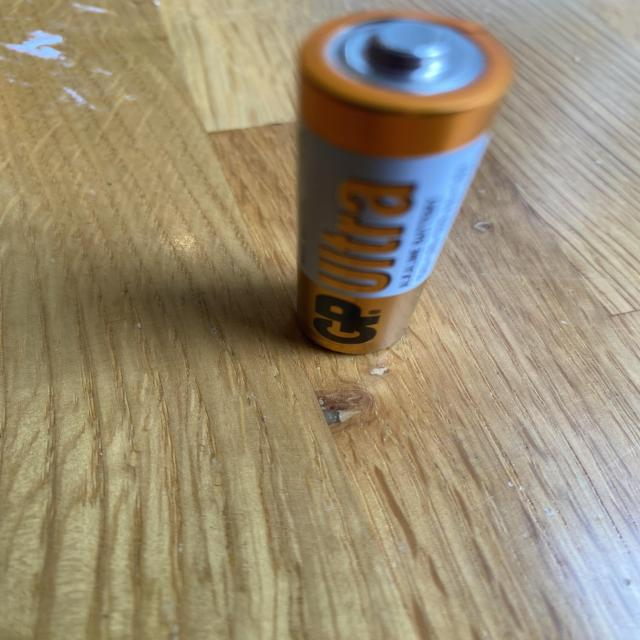AA: (291, 6, 520, 358)
